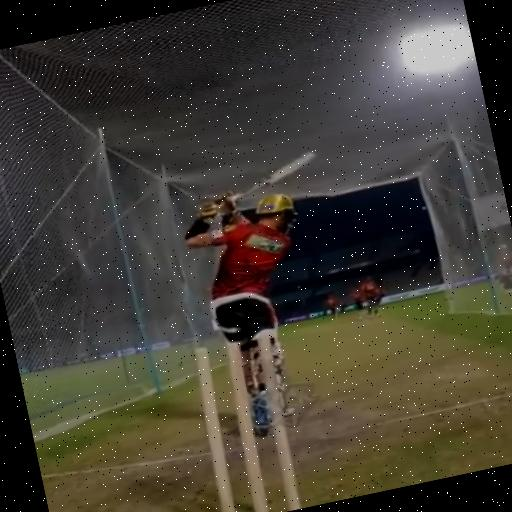Cricket bat: (234, 153, 314, 200)
